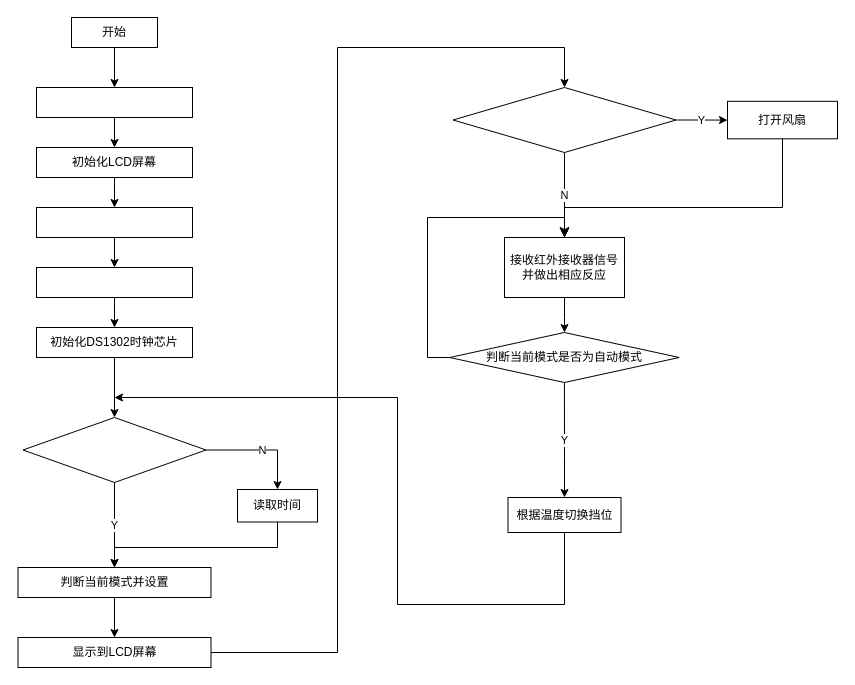
The diagram is 855 pixels wide and 685 high, and some of its shapes have lost their labels. Each missing label, with the centre of its shape:
"初始化定时器0" belongs at point (114, 222).
"初始化定时器2" belongs at point (114, 282).
"初始化红外线接收器" belongs at point (114, 102).
"判断是否有语音模块输入" belongs at point (564, 119).
"判断是否读取过时间" belongs at point (114, 449).
